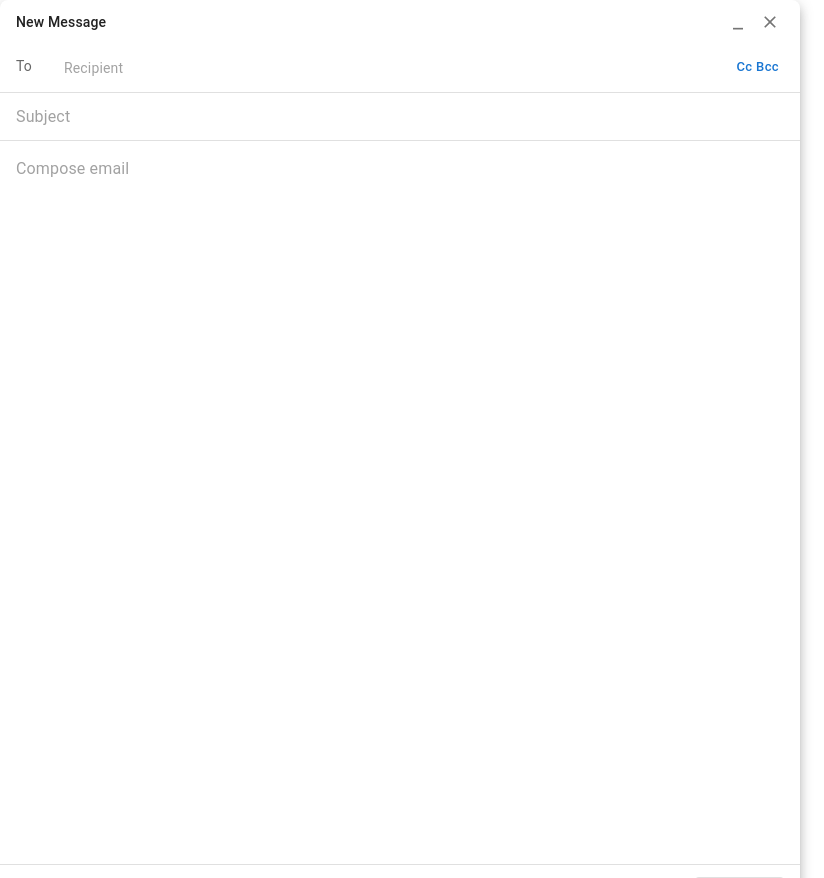
Test case: EmailComposer › Cc/Bcc Toggle › shows "Hide" button when Cc/Bcc fields are expanded
Click the button "Cc Bcc".
click(758, 67)  # box [731,52,784,83]
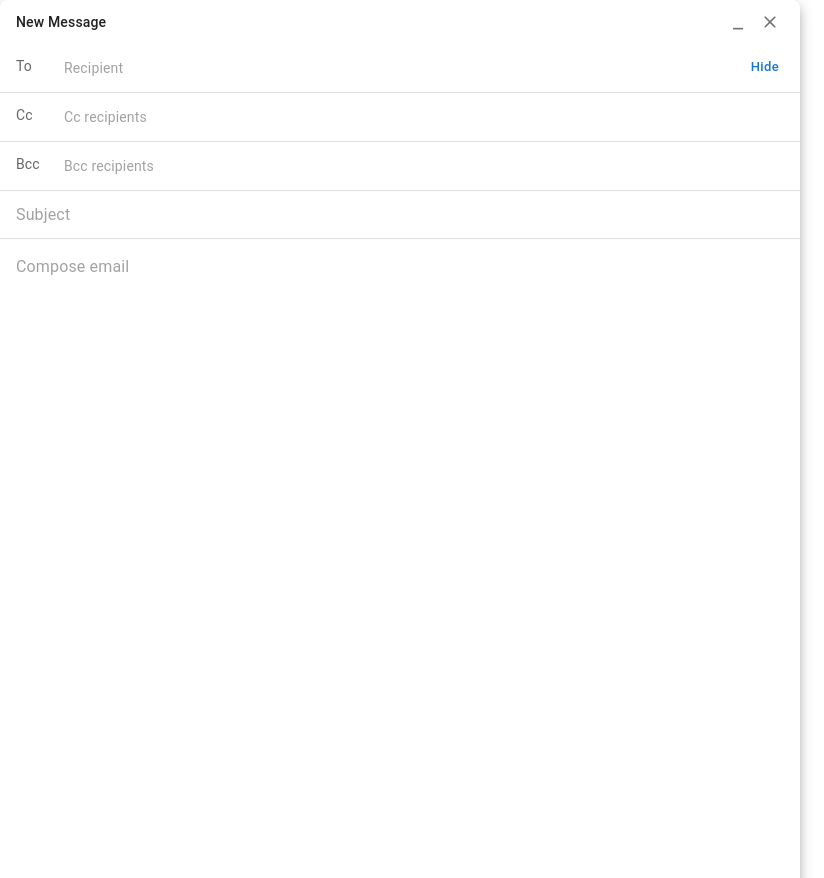
Expected: the button "Hide" is shown, [746,52,784,83]
